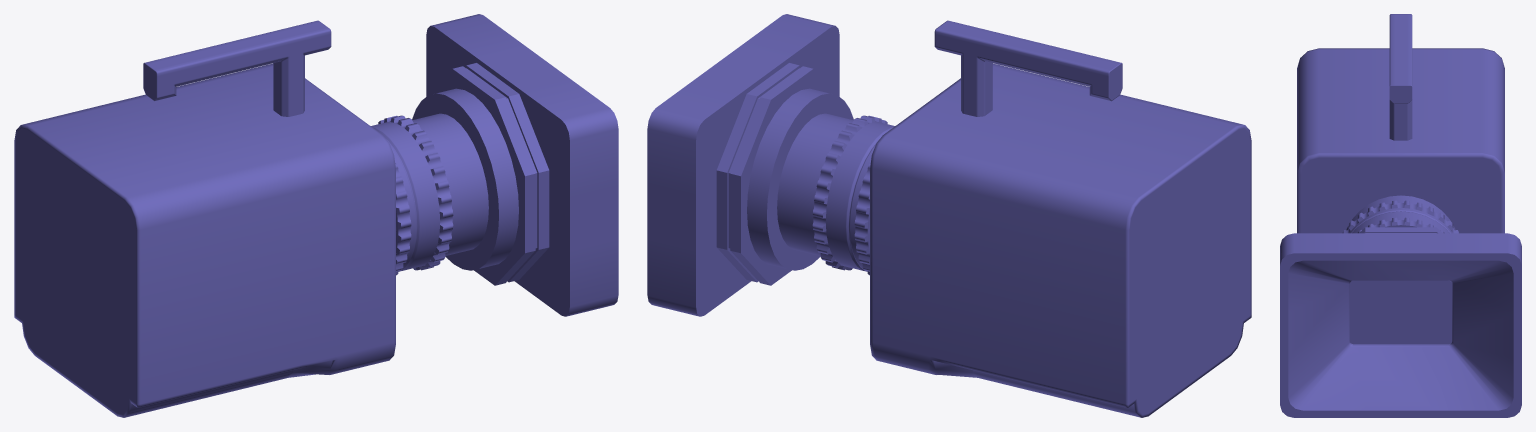
Rendered from outro_camera.glb.
3 views of the same model, side by side, from view 1: azimuth 30°, elevation 25°; view 2: azimuth 150°, elevation 25°; view 3: azimuth 270°, elevation 25° (orthographic). The views are drawn at different scales.
Parts seen in each view (by area): view 1: intro_camera; view 2: intro_camera; view 3: intro_camera.
Boxes of the visible parts, x1,y1,x2,y2 form: intro_camera: (14,14,618,417); intro_camera: (647,14,1251,417); intro_camera: (1280,14,1521,417).
Size of the model in its own units: 0.7155 by 0.4371 by 0.3785.
